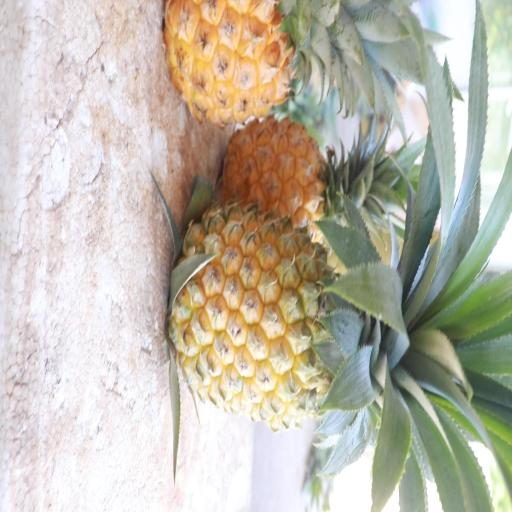Pineapple - v8 v1: (166, 201, 388, 432), (161, 0, 355, 129), (220, 114, 381, 244)
